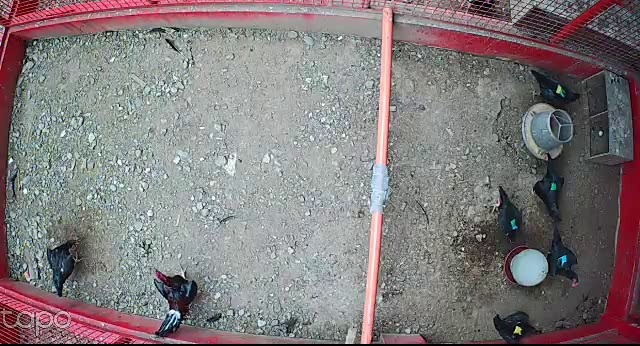Chicken: (540, 221, 588, 294), (527, 150, 567, 225), (525, 66, 585, 108), (47, 235, 82, 299), (489, 186, 526, 244), (490, 306, 546, 344)
Drinker: (503, 247, 549, 287)
Feeder: (521, 102, 574, 163)
Rooster: (148, 266, 201, 339)
Saddle_Color_Blue: (558, 254, 569, 266)
Saddle_Color_Bluegreen: (510, 219, 519, 230)
Saddle_Color_Green: (549, 180, 557, 190)
Saddle_Color_Yellow: (514, 325, 522, 335)
Saddle_Color_YellowGreen: (554, 82, 565, 97)
